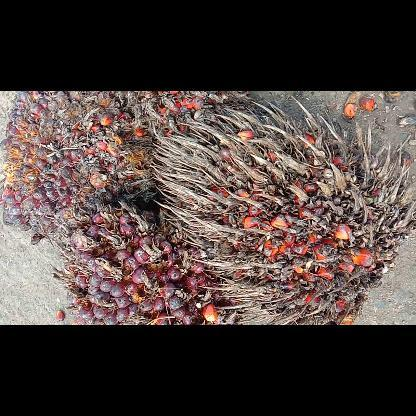TBS masak: (51, 200, 241, 324), (0, 90, 155, 240)
Terlalu masak: (151, 96, 415, 324), (110, 91, 246, 138)
